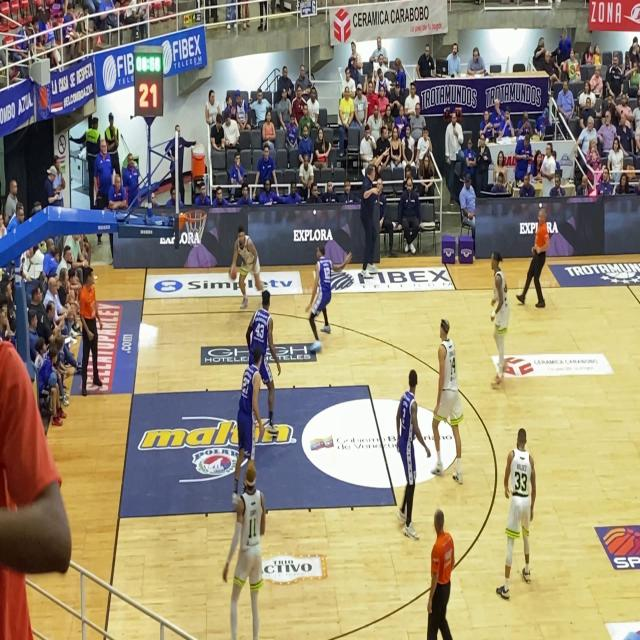Ball: (228, 261, 238, 283)
referee: (425, 503, 455, 640), (518, 209, 553, 311), (80, 268, 102, 392)
team1: (493, 422, 537, 600), (225, 467, 267, 640), (425, 313, 465, 487), (484, 245, 519, 401), (228, 218, 265, 307)
team2: (392, 368, 419, 542), (305, 233, 337, 365), (231, 350, 266, 466), (245, 283, 282, 350)
ubasket: (180, 198, 208, 252)
